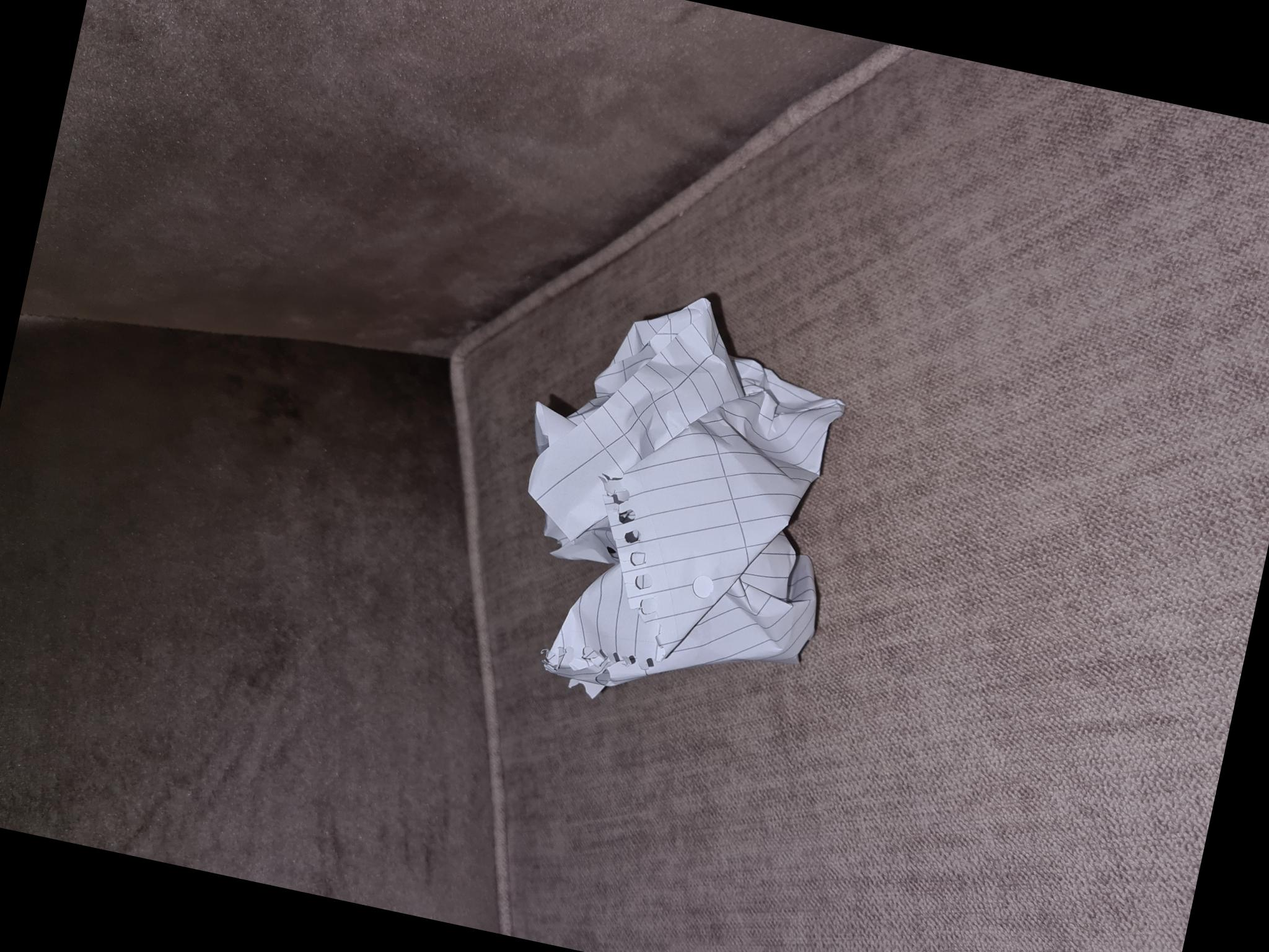Kertas: (226, 493, 622, 807)
